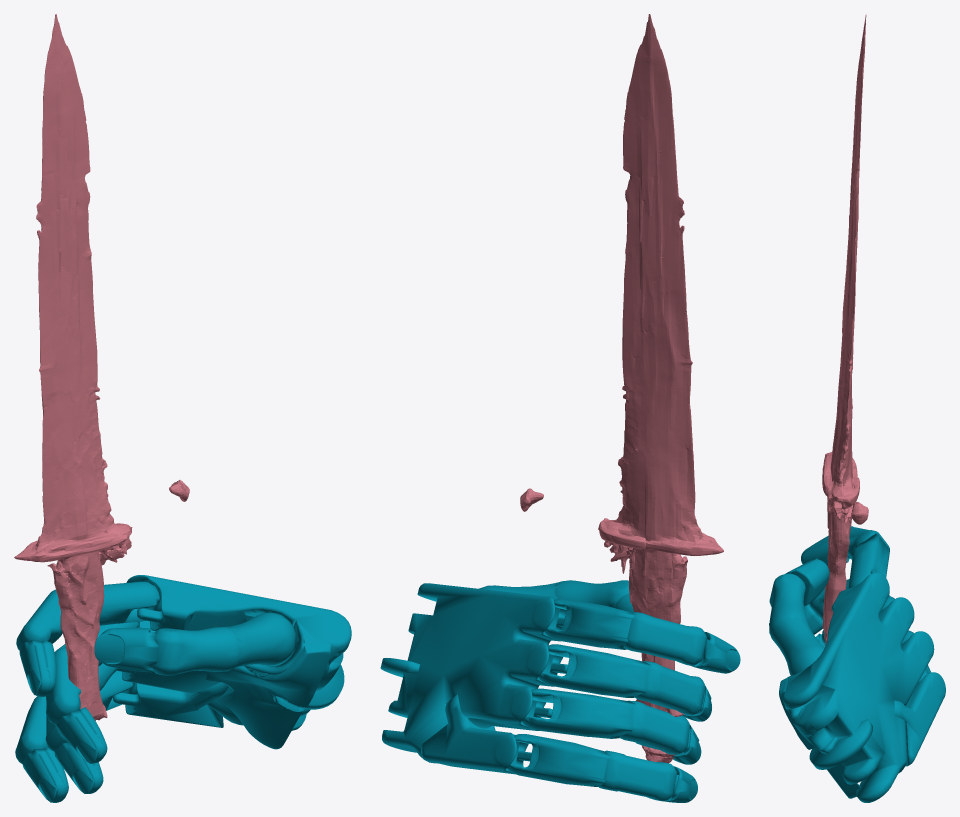
3 views of the same model, side by side, from view 1: azimuth 30°, elevation 25°; view 2: azimuth 150°, elevation 25°; view 3: azimuth 270°, elevation 25° (orthographic). The views are drawn at different scales.
Visible parts, largest first — view 1: world; view 2: world; view 3: world.
Boxes of the visible parts, box(x1,y1,x2,y2) form: world: box(14, 14, 351, 802); world: box(380, 14, 740, 802); world: box(769, 14, 945, 802).
Bounding box in the file's own units: 0.1842 × 0.4204 × 0.0974.
